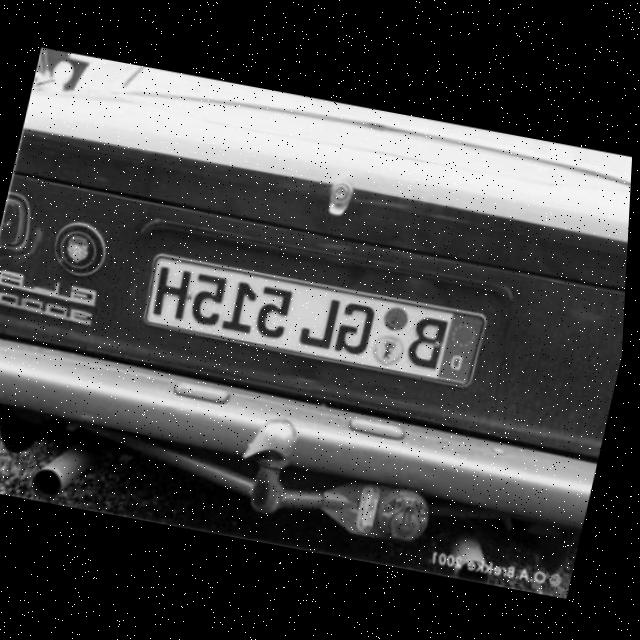license-plates: (143, 255, 485, 387)
